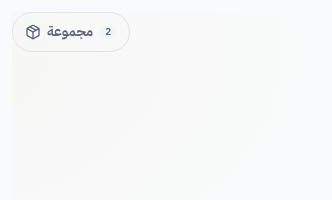
Test: opening a card › closes after ringing — a menu left open hides the cart
What coordinates should you click on to do the following:
click the button with test id "quick-card-a"
I would click on:
 (71, 32)
Its box is [13,13,129,51].
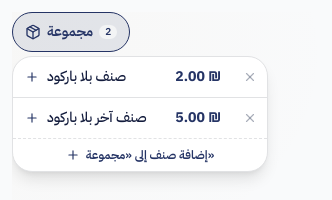
What coordinates should you click on to do the following:
click the text "صنف بلا باركود"
I would click on:
 (87, 76)
Its box is [47,66,126,87].
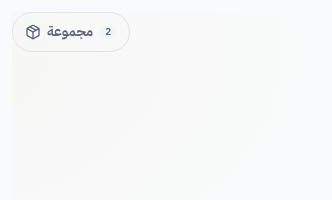
Result: the menu with test id "quick-card-options" is gone
